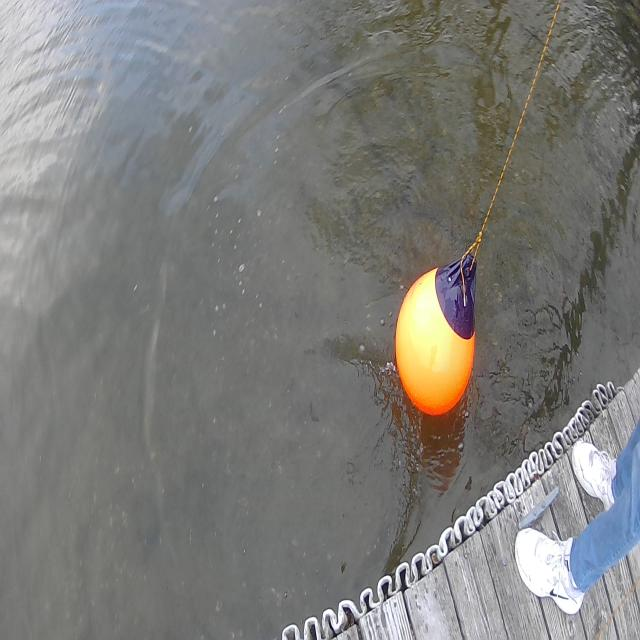Buoy: (391, 242, 482, 419)
